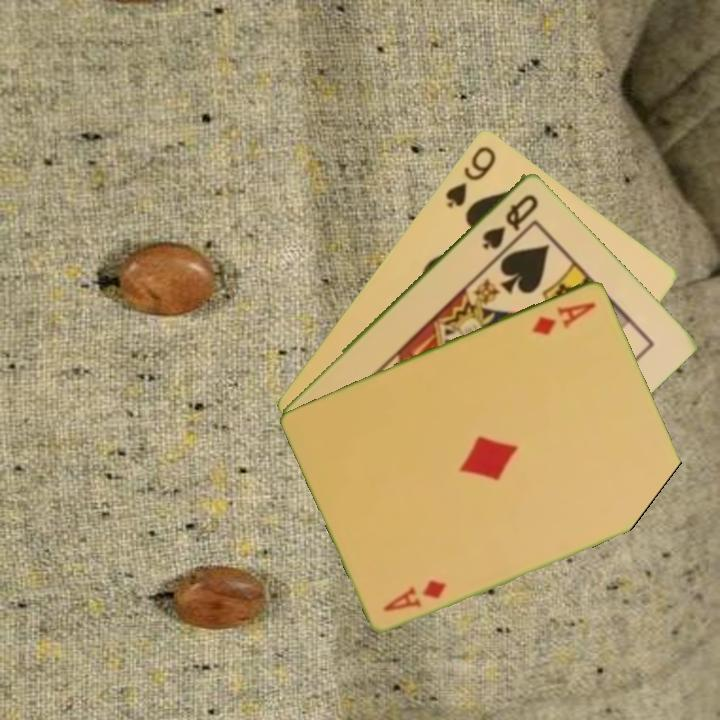9s: (442, 141, 499, 211)
Ad: (528, 298, 600, 338), (380, 575, 450, 614)
Qs: (478, 190, 541, 253)
